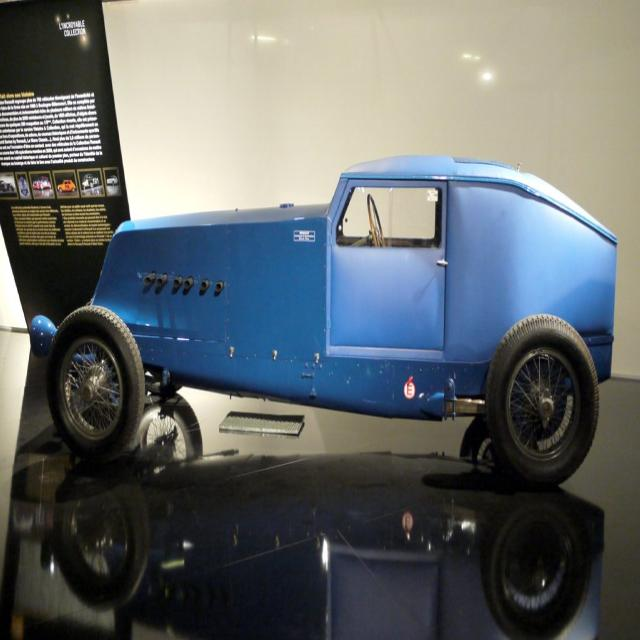other: (23, 149, 623, 490), (57, 176, 74, 195), (80, 172, 96, 188), (31, 175, 50, 187), (105, 173, 117, 183)
